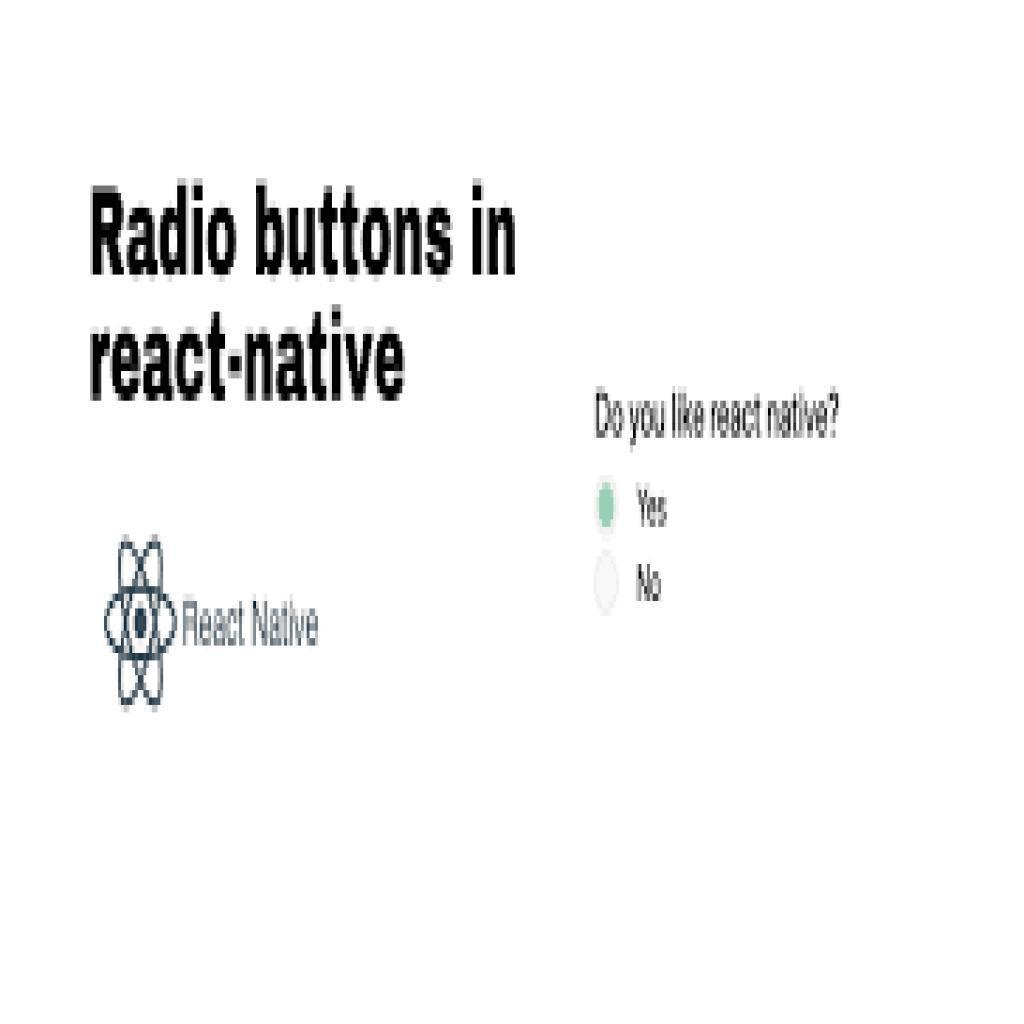label: (633, 484, 670, 536), (629, 560, 667, 610)
radio: (594, 471, 623, 535), (595, 551, 621, 620)
